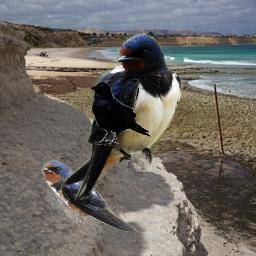Crow: (88, 81, 152, 146)
Swallow: (61, 33, 183, 204), (41, 160, 136, 232)
